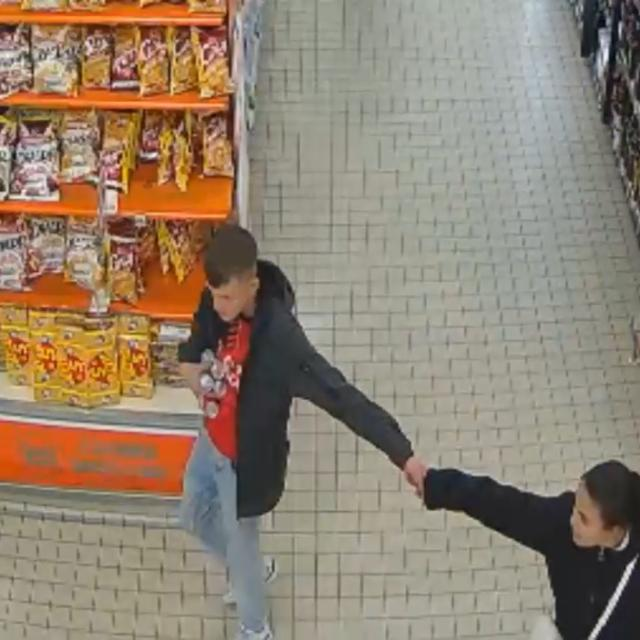article: (200, 349, 224, 380), (203, 397, 219, 418), (199, 373, 213, 388), (213, 381, 226, 396)
bags: (588, 556, 638, 639)
hands: (181, 364, 221, 410), (402, 455, 427, 498)
person: (179, 225, 425, 639), (424, 462, 639, 639)
